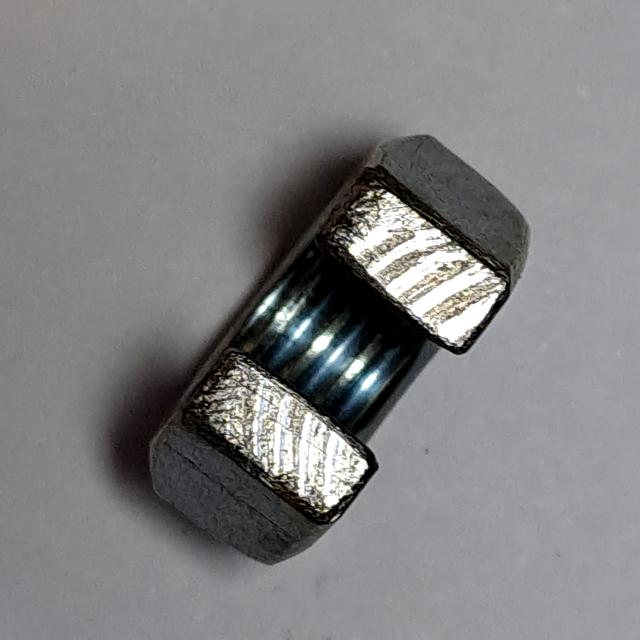Side-Fracture: (130, 121, 547, 581)
